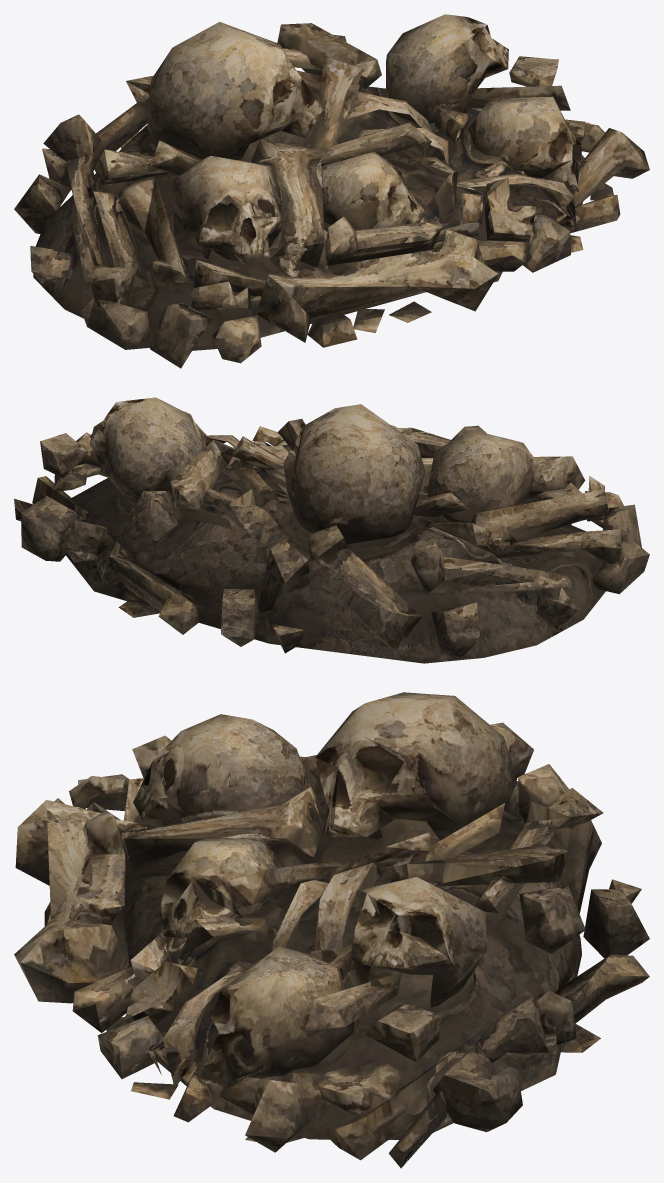
File: dungeon_bone_pile.glb
The picture shows the model from 3 angles, top to bottom: view 1: azimuth 30°, elevation 25°; view 2: azimuth 150°, elevation 25°; view 3: azimuth 270°, elevation 25°; orthographic projection. The views are drawn at different scales.
Parts seen in each view (by area): view 1: bone_pile; view 2: bone_pile; view 3: bone_pile.
Part boxes in pixels (box(x1,y1,x2,y2)): bone_pile: box(14, 14, 649, 368); bone_pile: box(14, 397, 649, 663); bone_pile: box(14, 692, 649, 1168).
Bounding box in the file's own units: 0.998 × 0.3252 × 0.7461.
1 material, 1 textured.
